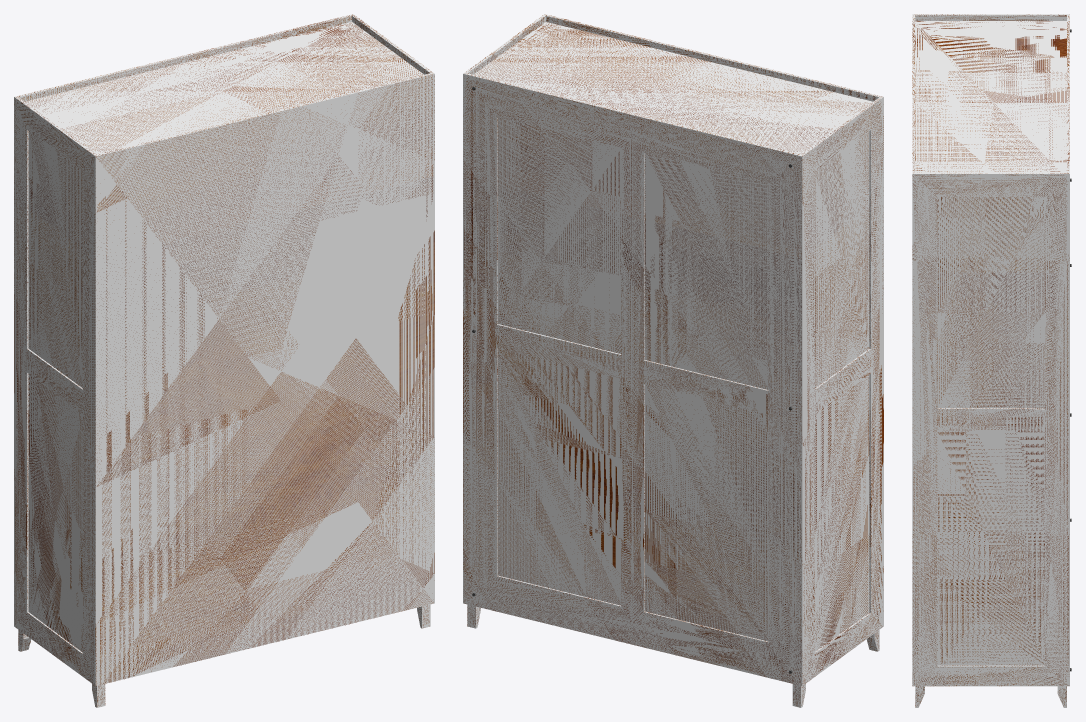
The picture shows the model from 3 angles, left to right: view 1: azimuth 30°, elevation 25°; view 2: azimuth 150°, elevation 25°; view 3: azimuth 270°, elevation 25°; orthographic projection. The views are drawn at different scales.
Visible parts, largest first — view 1: mesh1_mesh1-geometry; view 2: mesh1_mesh1-geometry; view 3: mesh1_mesh1-geometry.
Boxes of the visible parts, x1,y1,x2,y2 form: mesh1_mesh1-geometry: (14, 14, 434, 707); mesh1_mesh1-geometry: (463, 14, 883, 707); mesh1_mesh1-geometry: (912, 14, 1071, 707).
Size of the model in its own units: 0.5266 by 0.8207 by 0.2216.
